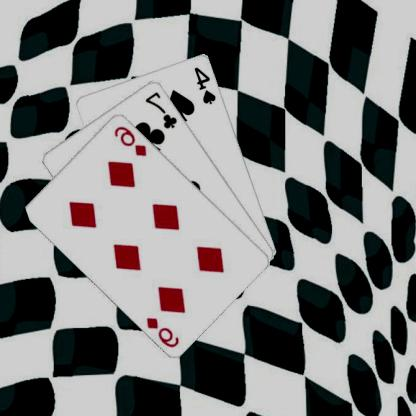4S: (194, 64, 219, 105)
6D: (145, 314, 182, 349), (113, 123, 150, 157)
7C: (144, 89, 181, 130)
